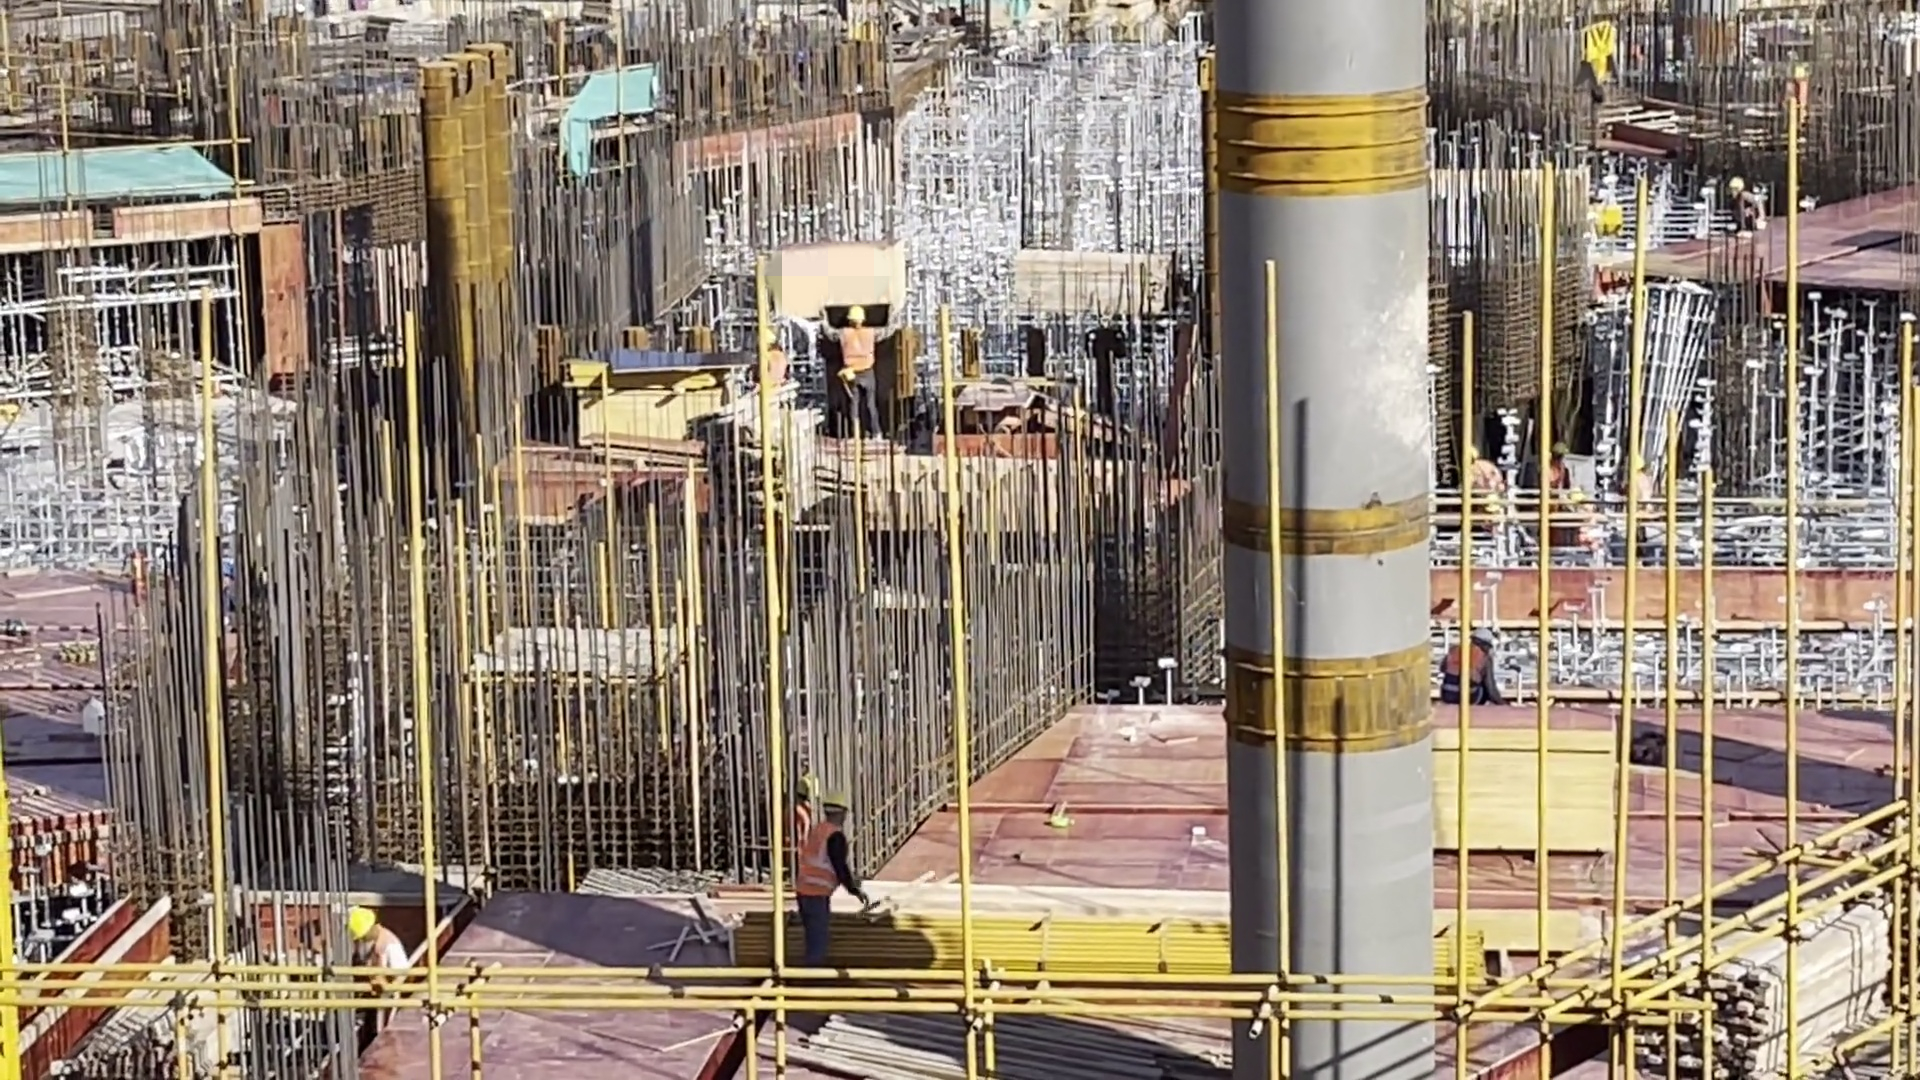helmet: (338, 898, 378, 938), (808, 785, 844, 816), (841, 298, 872, 319)
person: (809, 307, 907, 448), (805, 793, 880, 955), (340, 900, 409, 984), (1457, 443, 1515, 538), (1444, 632, 1501, 705), (1722, 173, 1777, 240), (1536, 438, 1573, 497), (1625, 450, 1661, 501)
vest: (806, 818, 845, 918), (837, 333, 876, 380)
